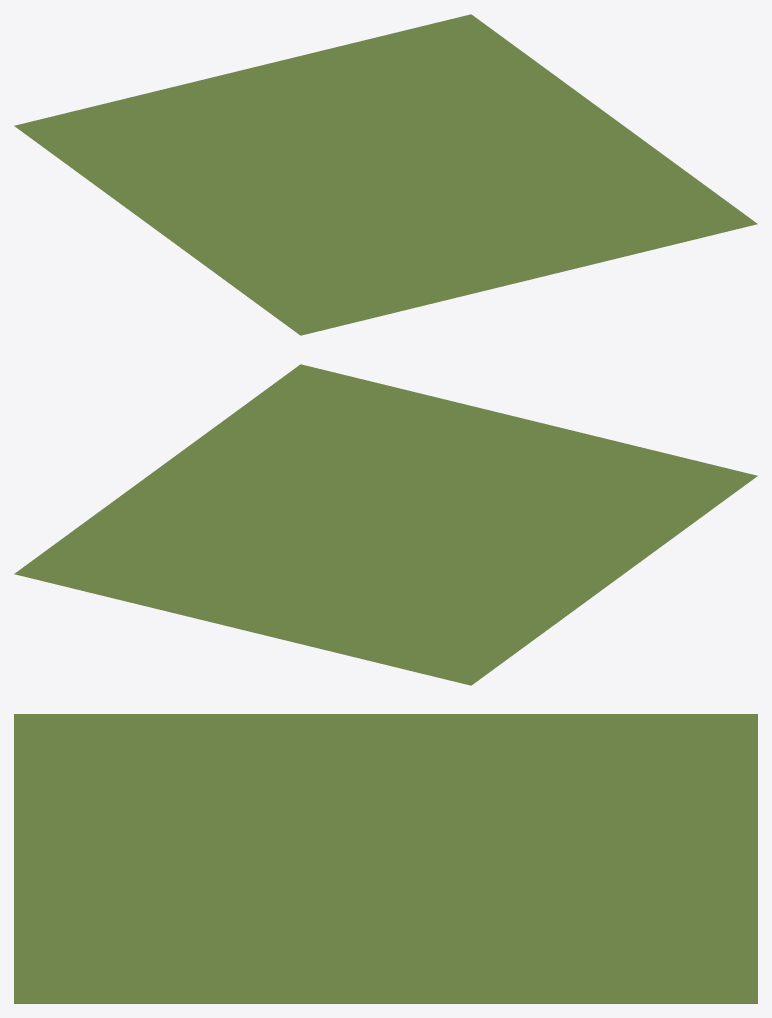
File: region_-1_1.glb
The picture shows the model from 3 angles, top to bottom: view 1: azimuth 30°, elevation 25°; view 2: azimuth 150°, elevation 25°; view 3: azimuth 270°, elevation 25°; orthographic projection. The views are drawn at different scales.
Visible parts, largest first — view 1: OD_Meadow.003; view 2: OD_Meadow.003; view 3: OD_Meadow.003, OD_Ground.003.
Boxes of the visible parts, x1,y1,x2,y2 form: OD_Meadow.003: (14,14,757,335); OD_Meadow.003: (14,364,757,685); OD_Meadow.003: (14,714,757,1003); OD_Ground.003: (14,1003,757,1003).
Bounding box in the file's own units: 29.03 × 0.00518 × 31.52.
